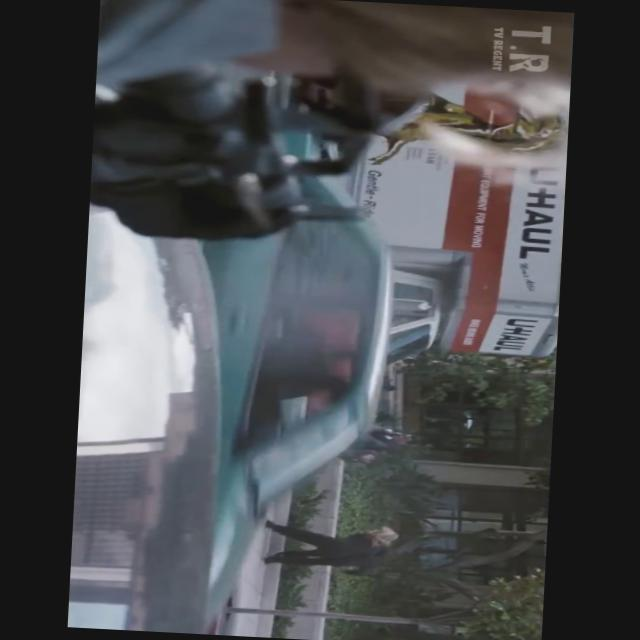long weapon: (32, 32, 394, 280)
